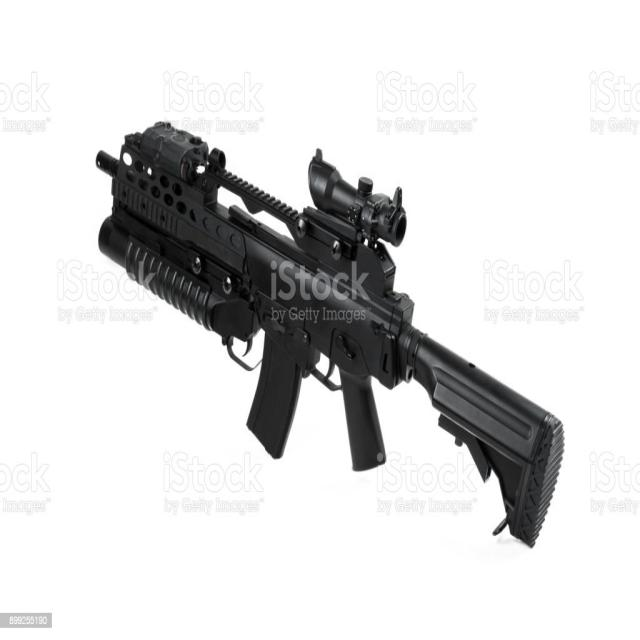Rifle: (96, 123, 566, 547)
